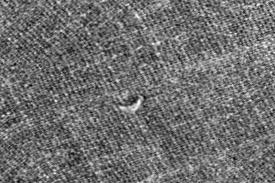snag: (112, 92, 148, 117)
